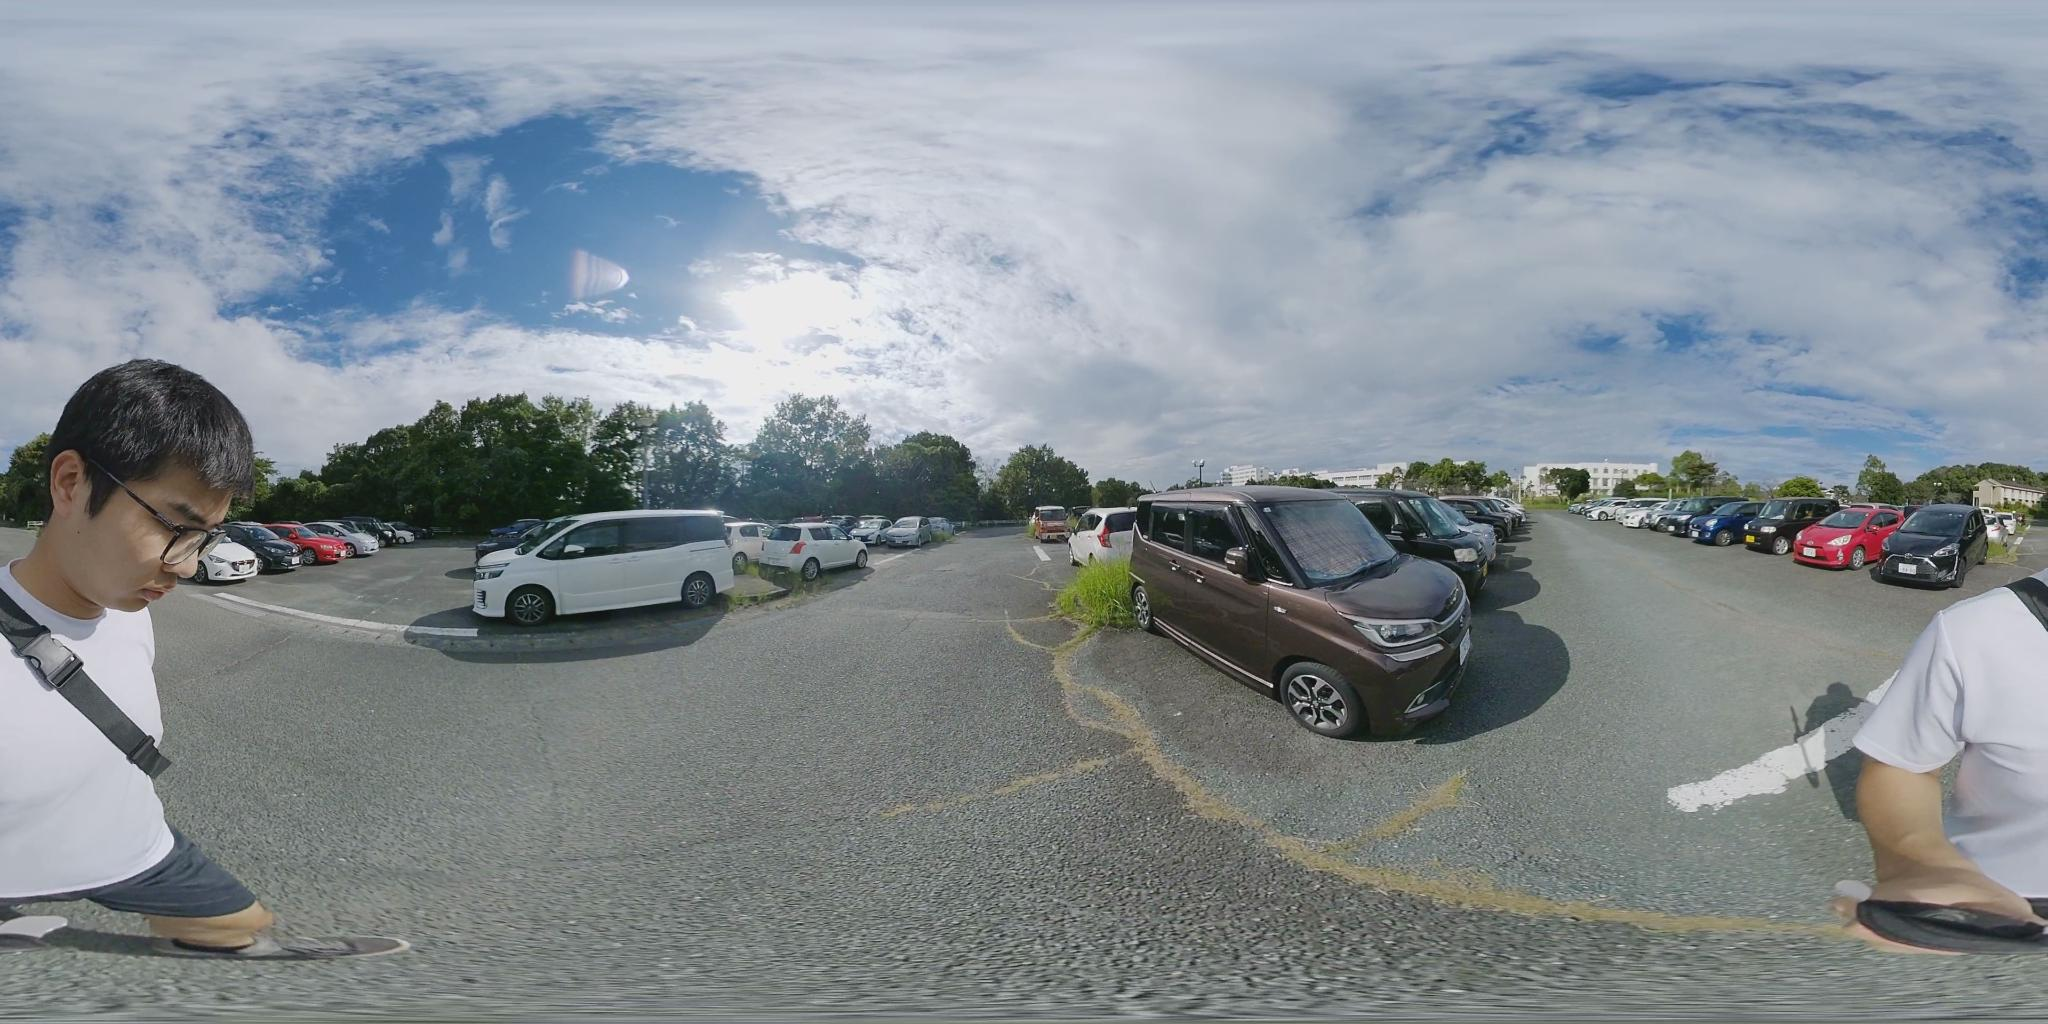car: (1117, 486, 1481, 738), (465, 516, 733, 626), (1296, 485, 1510, 589), (1869, 507, 1988, 589), (737, 522, 875, 580), (1792, 505, 1906, 562), (196, 525, 293, 583), (1735, 504, 1834, 556), (222, 524, 315, 572), (1425, 495, 1527, 538), (280, 525, 358, 563), (1691, 511, 1761, 545), (869, 520, 929, 549), (1027, 505, 1075, 541), (1647, 502, 1693, 530), (379, 525, 423, 546), (1580, 499, 1630, 517)
